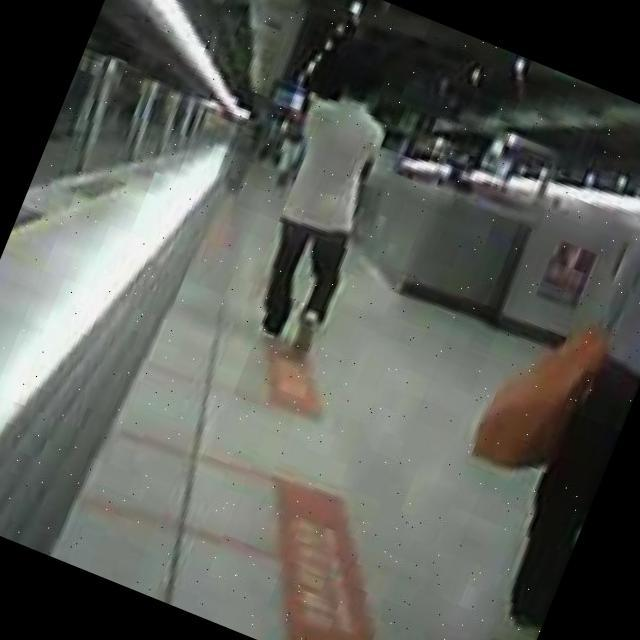person: (473, 190, 640, 640), (218, 48, 420, 356)
